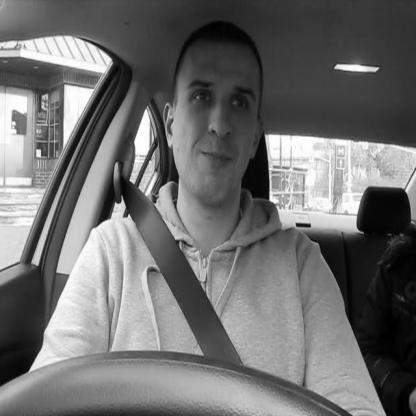seatbelt: (112, 14, 294, 414)
